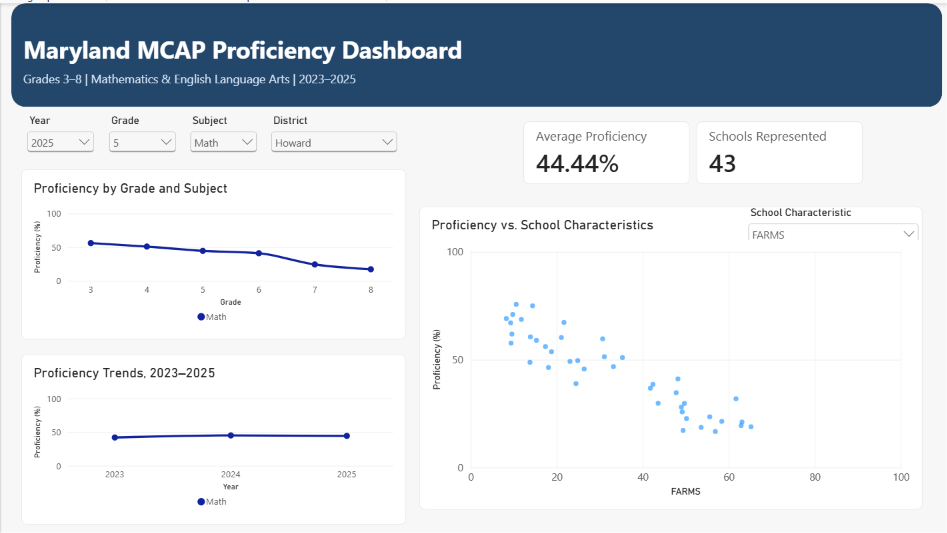

The page's visual inventory and layout, read from the dashboard file:
{"tool":"powerbi","page":{"name":"Page 1","canvas":[1280,720],"ordinal":0},"visuals":[{"type":"shape","box":[13.3,0,1258.3,140],"z":0},{"type":"lineChart","title":"Proficiency by Grade and Subject","fields":{"Category":["MCAP.grade"],"Series":["MCAP.subject"],"Y":["MCAP.Average Proficiency"]},"box":[26.7,225,520,230],"z":1000},{"type":"slicer","fields":{"Values":["MCAP.year"]},"box":[30,150,100,60],"z":2000},{"type":"slicer","fields":{"Values":["MCAP.lea_name"]},"box":[360,150,180,60],"z":3000},{"type":"lineChart","title":"Proficiency Trends, 2023–2025","fields":{"Category":["MCAP.year"],"Series":["MCAP.subject"],"Y":["MCAP.Average Proficiency"]},"box":[26.7,475,520,230],"z":4000},{"type":"slicer","fields":{"Values":["MCAP.grade"]},"box":[140,150,100,60],"z":5000},{"type":"slicer","fields":{"Values":["MCAP.subject"]},"box":[250,150,100,60],"z":6000},{"type":"scatterChart","title":"Proficiency vs. School Characteristics","fields":{"Category":["MCAP.School Key"],"X":["MCAP.Average Chronic Absenteeism"],"Y":["MCAP.Average Proficiency"]},"box":[565,275,680,410],"z":6500},{"type":"slicer","fields":{"Values":["School Characteristic.School Characteristic"]},"box":[1005,275,240,45],"z":7000},{"type":"cardVisual","fields":{"Data":["MCAP.Average Proficiency Display"]},"box":[705,160,225,85],"z":9000},{"type":"cardVisual","fields":{"Data":["MCAP.Schools Represented"]},"box":[940,160,225,85],"z":10000},{"type":"textbox","box":[30,40,614.3,80],"z":11000},{"type":"textbox","box":[30,90,639.2,80],"z":12000}]}

Visuals, with their boxes in screenshot pixels (x1, y1, x2, y2), scaled from the page's 1280x720 canvas onto the 947x533 screenshot:
shape: BBox(10, 0, 941, 104)
"Proficiency by Grade and Subject" lineChart: BBox(20, 167, 404, 337)
slicer - MCAP.year: BBox(22, 111, 96, 155)
slicer - MCAP.lea_name: BBox(266, 111, 400, 155)
"Proficiency Trends, 2023–2025" lineChart: BBox(20, 352, 404, 522)
slicer - MCAP.grade: BBox(104, 111, 178, 155)
slicer - MCAP.subject: BBox(185, 111, 259, 155)
"Proficiency vs. School Characteristics" scatterChart: BBox(418, 204, 921, 507)
slicer - School Characteristic.School Characteristic: BBox(744, 204, 921, 237)
cardVisual - MCAP.Average Proficiency Display: BBox(522, 118, 688, 181)
cardVisual - MCAP.Schools Represented: BBox(695, 118, 862, 181)
textbox: BBox(22, 30, 477, 89)
textbox: BBox(22, 67, 495, 126)
